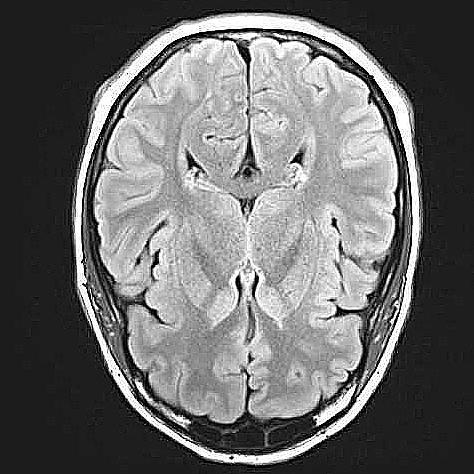Normal_Brain: (1, 1, 474, 474)
